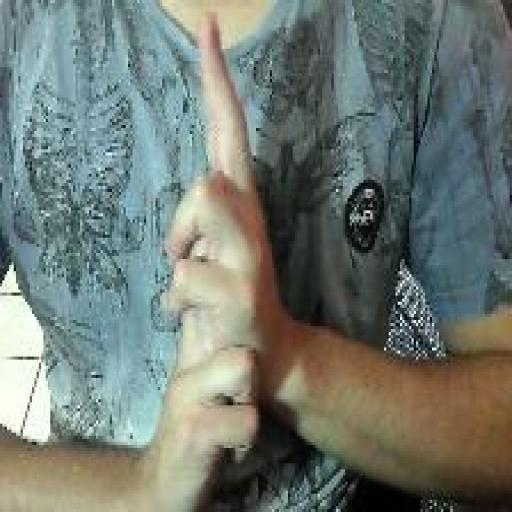Hitsuji -ram-: (154, 3, 262, 509)
